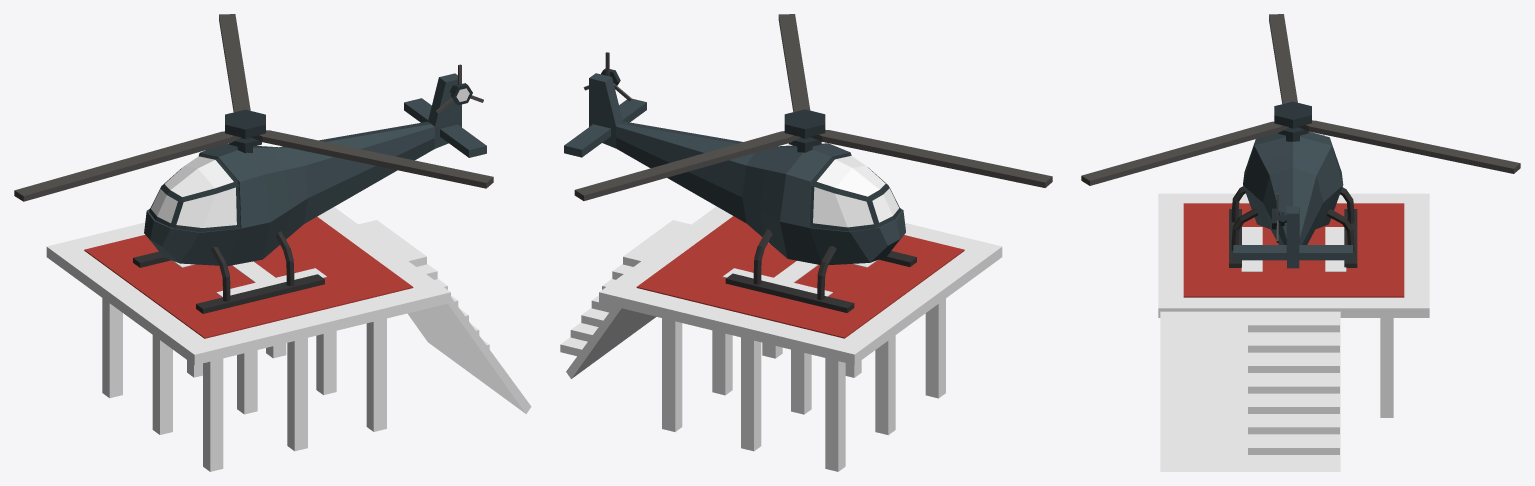
The model's file is Frost_3x2B.fbx.
3 renders of one model, left to right at view 1: azimuth 30°, elevation 25°; view 2: azimuth 150°, elevation 25°; view 3: azimuth 270°, elevation 25°, orthographic. The views are drawn at different scales.
Parts seen in each view (by area): view 1: xueshan_tingjiping_2_3; view 2: xueshan_tingjiping_2_3; view 3: xueshan_tingjiping_2_3.
Boxes of the visible parts, left/top/right/bottom form: xueshan_tingjiping_2_3: left=14, top=14, right=531, bottom=471; xueshan_tingjiping_2_3: left=560, top=14, right=1052, bottom=471; xueshan_tingjiping_2_3: left=1081, top=14, right=1520, bottom=471.
Bounding box in the file's own units: 662 × 411 × 590.
Materials: 1 (1 with a texture image).
